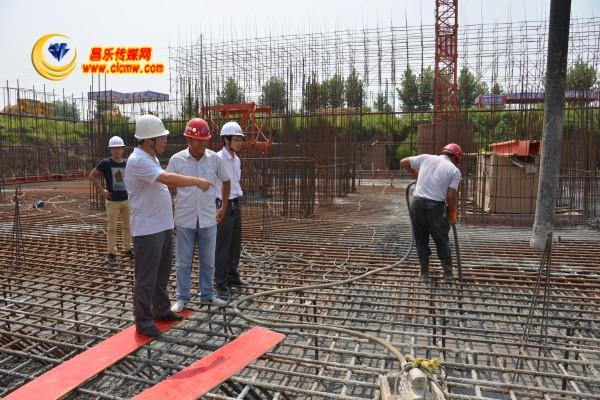helmet: (136, 117, 171, 141), (186, 119, 212, 141), (221, 123, 246, 138), (445, 144, 464, 160), (110, 136, 128, 150)
